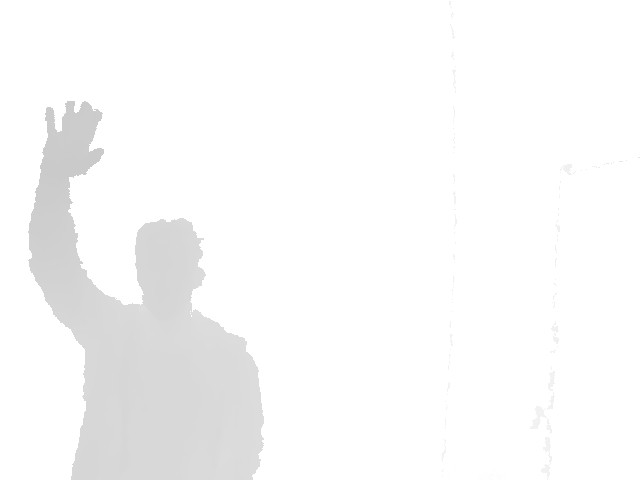hand: (39, 99, 106, 181)
head: (135, 219, 207, 313)
person: (27, 99, 266, 480)
